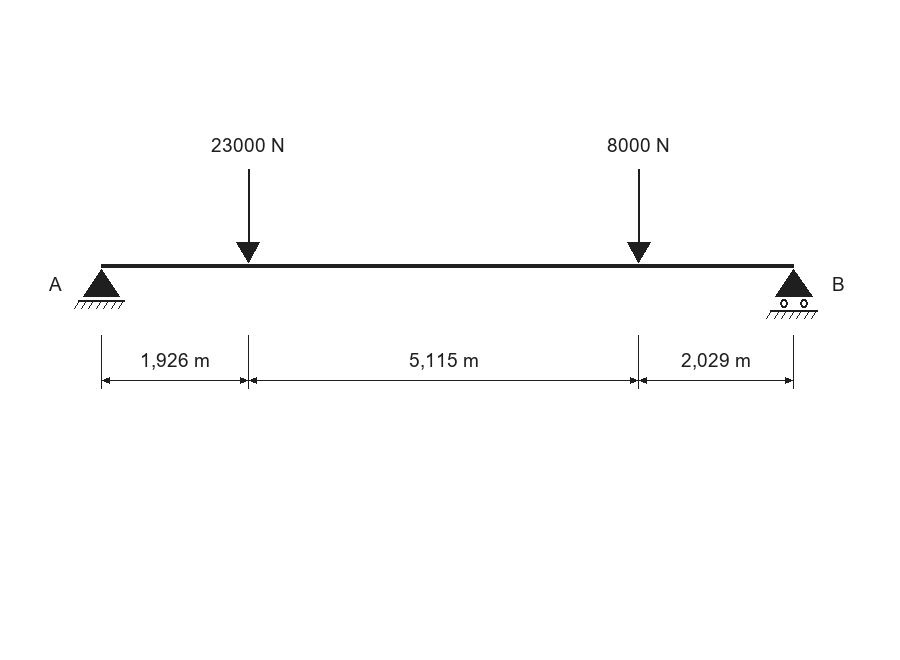pin_support: (74, 269, 125, 309)
point_load: (236, 169, 260, 263), (627, 169, 651, 263)
roller_support: (766, 269, 818, 319)
